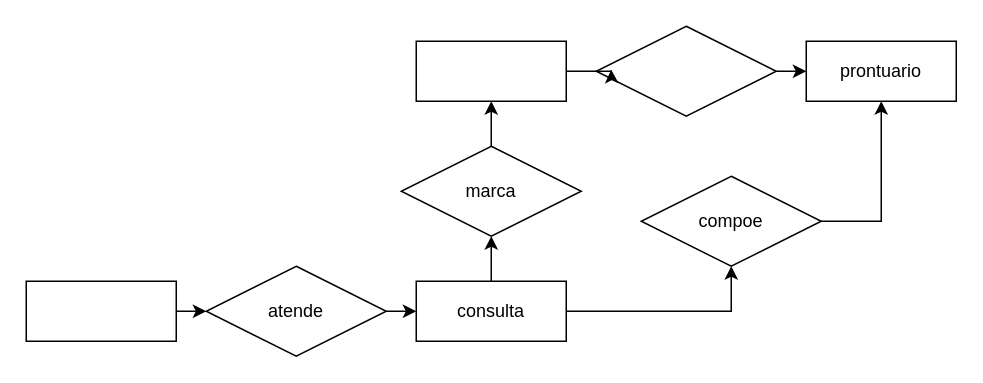
Some shapes in this 983 by 383 pixel diagram are drawn without their labels. The box of each missing label's shape, as (x1, y1, x2, y2) in pixels:
funcionario: (25, 280, 176, 341)
paciente: (415, 40, 566, 101)
possui: (595, 25, 776, 116)
